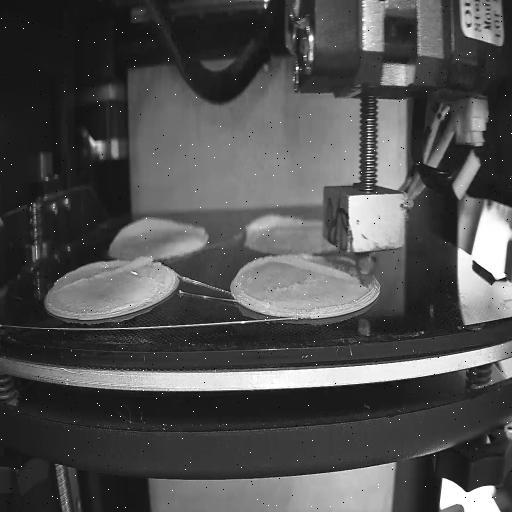over_extrusion: (62, 252, 156, 290), (112, 212, 207, 246), (280, 252, 352, 282), (244, 212, 308, 242)
